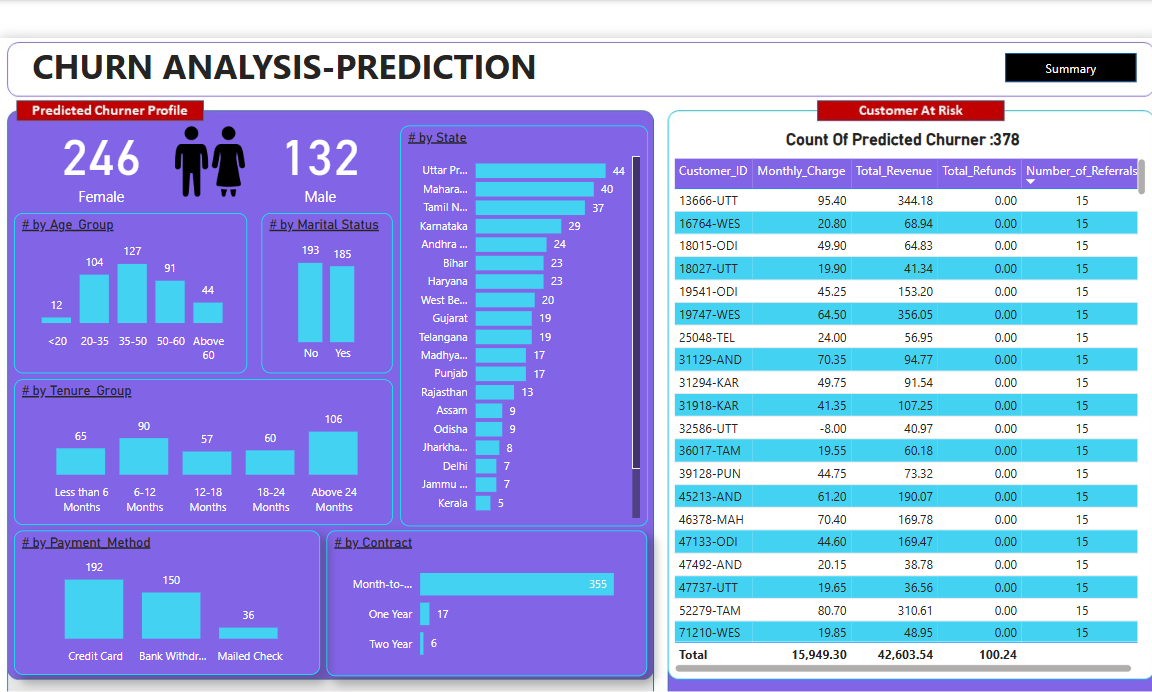

The dashboard page shown, as its layout file describes it:
{"tool":"powerbi","page":{"name":"Predictions","canvas":[1280,720],"ordinal":1},"visuals":[{"type":"tableEx","fields":{"Values":["Predictions.Customer_ID","Sum(Predictions.Monthly_Charge)","Sum(Predictions.Total_Revenue)","Sum(Predictions.Total_Refunds)","Predictions.Number_of_Referrals"]},"box":[736,128,528,574],"z":0},{"type":"card","fields":{"Values":["Predictions.Title predicted churner"]},"box":[816,96,352,32],"z":1000},{"type":"card","fields":{"Values":["Predictions.count predicted churner"]},"box":[16,80,192,112],"z":2000},{"type":"card","fields":{"Values":["Predictions.count predicted churner"]},"box":[256,80,192,112],"z":3000},{"type":"columnChart","fields":{"Category":["Mapping_Age group.Age_Group"],"Y":["CountNonNull(Predictions.Customer_ID)"]},"box":[16,192,256,176],"z":4000},{"type":"columnChart","fields":{"Category":["Predictions.Married"],"Y":["CountNonNull(Predictions.Customer_ID)"]},"box":[288,192,144,176],"z":5000},{"type":"columnChart","fields":{"Y":["CountNonNull(Predictions.Customer_ID)"],"Category":["Contract_Mapping.Tenure_Group"]},"box":[16,375,416,160],"z":6000},{"type":"columnChart","fields":{"Y":["CountNonNull(Predictions.Customer_ID)"],"Category":["Predictions.Payment_Method"]},"box":[16,540,336,158],"z":7000},{"type":"clusteredBarChart","fields":{"Category":["Predictions.Contract"],"Y":["CountNonNull(Predictions.Customer_ID)"]},"box":[360,540,352,160],"z":8000},{"type":"clusteredBarChart","fields":{"Category":["Predictions.State"],"Y":["CountNonNull(Predictions.Customer_ID)"]},"box":[441,96,272,440],"z":9000},{"type":"textbox","box":[32,0,688,80],"z":10000},{"type":"image","box":[176,80,112,112],"z":11000},{"type":"shape","box":[1104,16,144,32],"z":12000}]}

Visuals, with their boxes on the page's 1280x720 design canvas (x1, y1, x2, y2). These are canvas units, not pixel positions in the 1152x692 screenshot, which may show the page scaled, cropped or inside an application window:
tableEx - Predictions.Customer_ID x Sum(Predictions.Monthly_Charge): pyautogui.locateOnScreen(736, 128, 1264, 702)
card - Predictions.Title predicted churner: pyautogui.locateOnScreen(816, 96, 1168, 128)
card - Predictions.count predicted churner: pyautogui.locateOnScreen(16, 80, 208, 192)
card - Predictions.count predicted churner: pyautogui.locateOnScreen(256, 80, 448, 192)
columnChart - Mapping_Age group.Age_Group x CountNonNull(Predictions.Customer_ID): pyautogui.locateOnScreen(16, 192, 272, 368)
columnChart - Predictions.Married x CountNonNull(Predictions.Customer_ID): pyautogui.locateOnScreen(288, 192, 432, 368)
columnChart - CountNonNull(Predictions.Customer_ID) x Contract_Mapping.Tenure_Group: pyautogui.locateOnScreen(16, 375, 432, 535)
columnChart - CountNonNull(Predictions.Customer_ID) x Predictions.Payment_Method: pyautogui.locateOnScreen(16, 540, 352, 698)
clusteredBarChart - Predictions.Contract x CountNonNull(Predictions.Customer_ID): pyautogui.locateOnScreen(360, 540, 712, 700)
clusteredBarChart - Predictions.State x CountNonNull(Predictions.Customer_ID): pyautogui.locateOnScreen(441, 96, 713, 536)
textbox: pyautogui.locateOnScreen(32, 0, 720, 80)
image: pyautogui.locateOnScreen(176, 80, 288, 192)
shape: pyautogui.locateOnScreen(1104, 16, 1248, 48)
